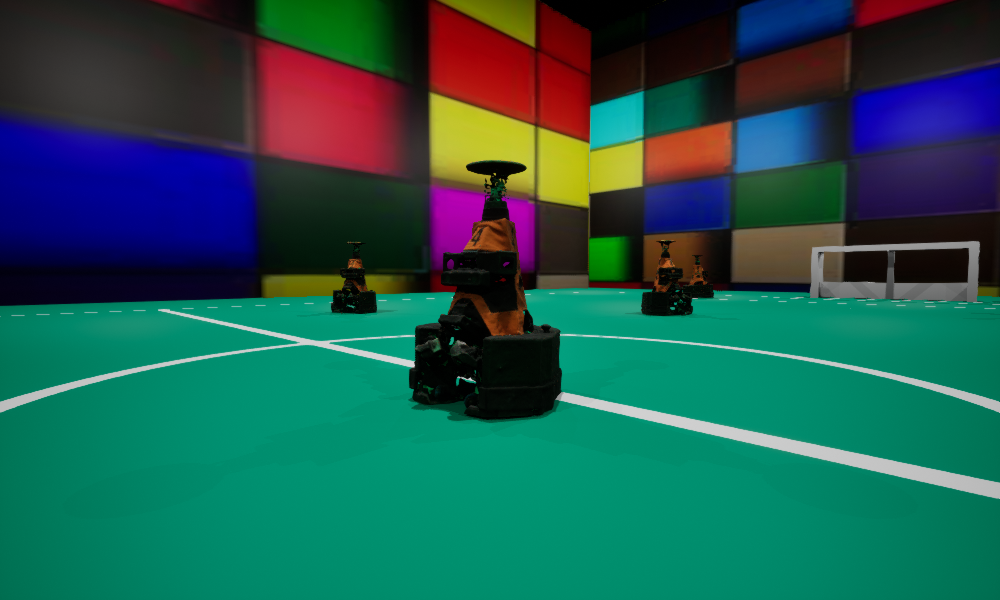o: (409, 160, 561, 416), (641, 240, 692, 315), (331, 242, 376, 312), (683, 255, 713, 297)
